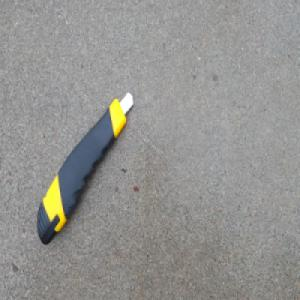Cutter: (36, 92, 134, 248)
